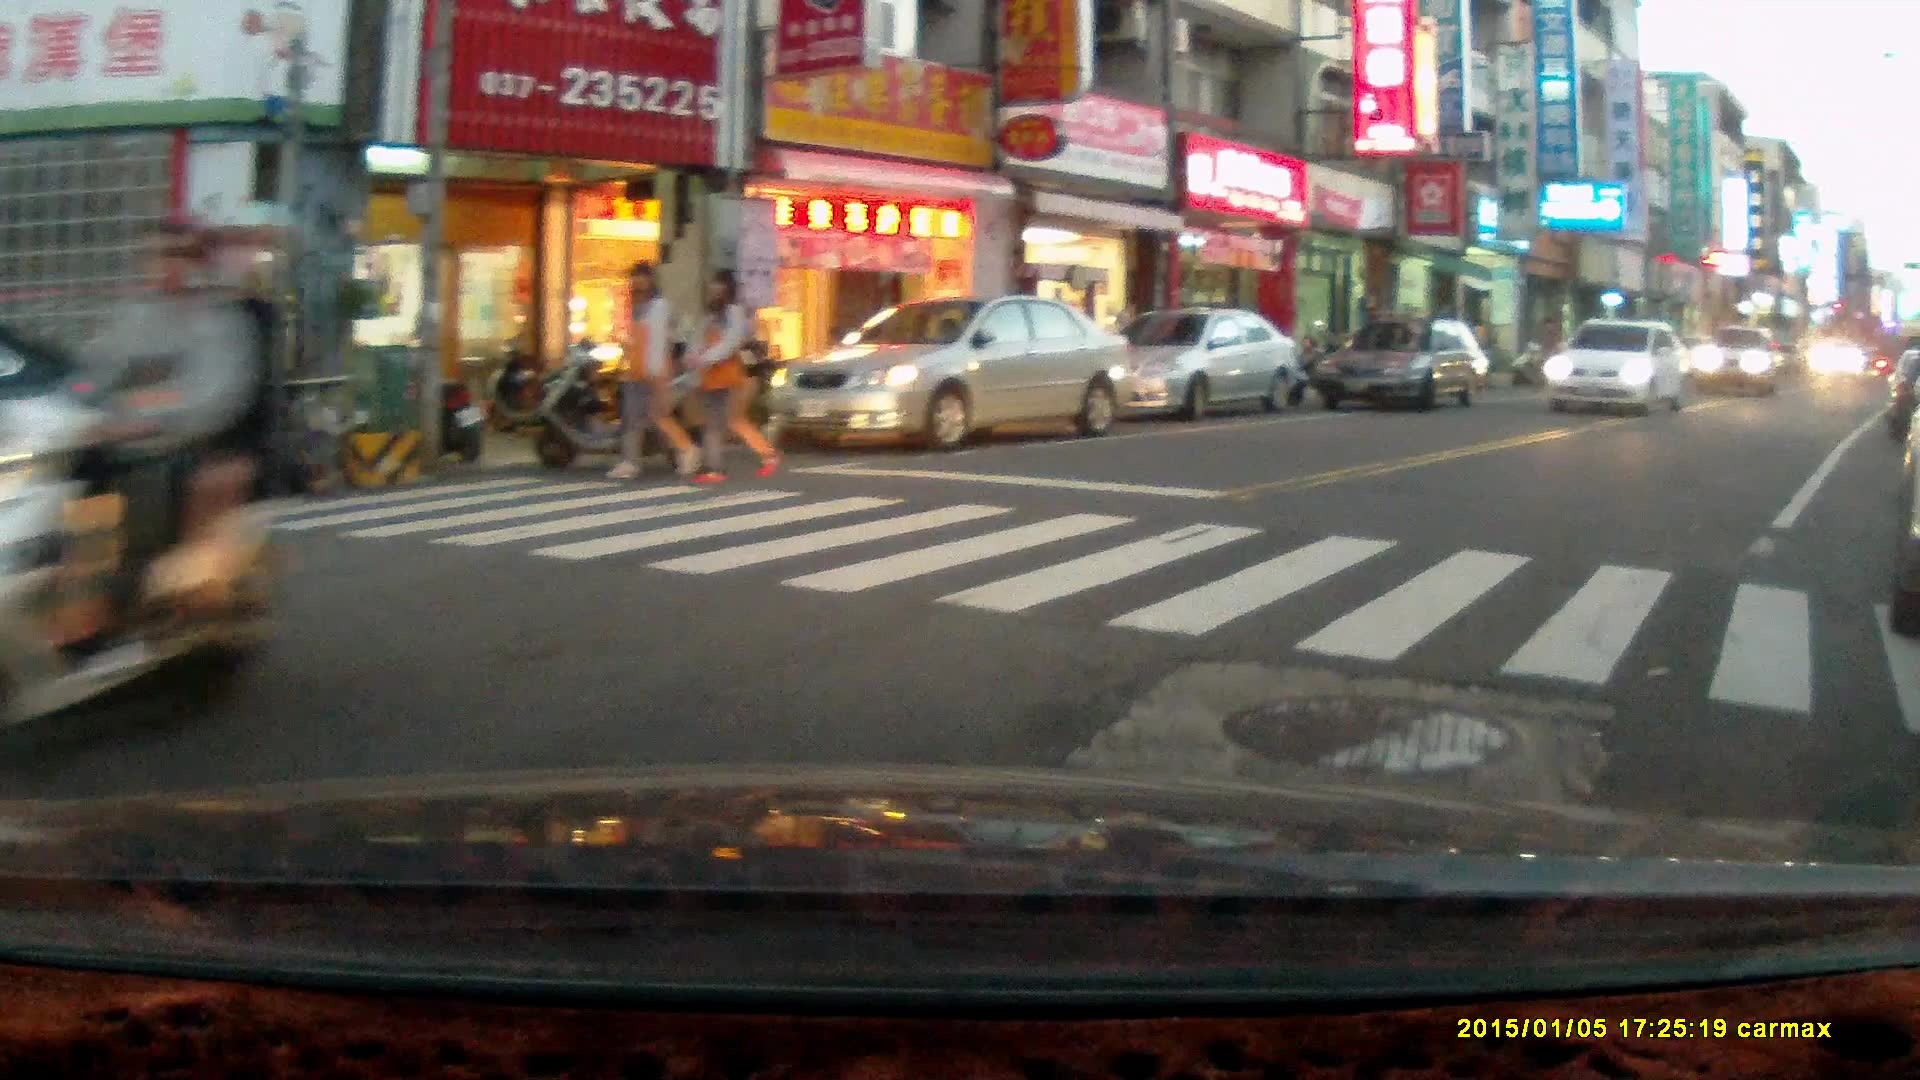pedestrian: (601, 261, 705, 481), (684, 264, 779, 485)
rider: (0, 195, 287, 771)
vehicle: (770, 296, 1136, 448), (1071, 310, 1305, 417), (1312, 317, 1497, 408), (1542, 317, 1692, 409), (1685, 322, 1790, 397), (1805, 333, 1864, 383)
